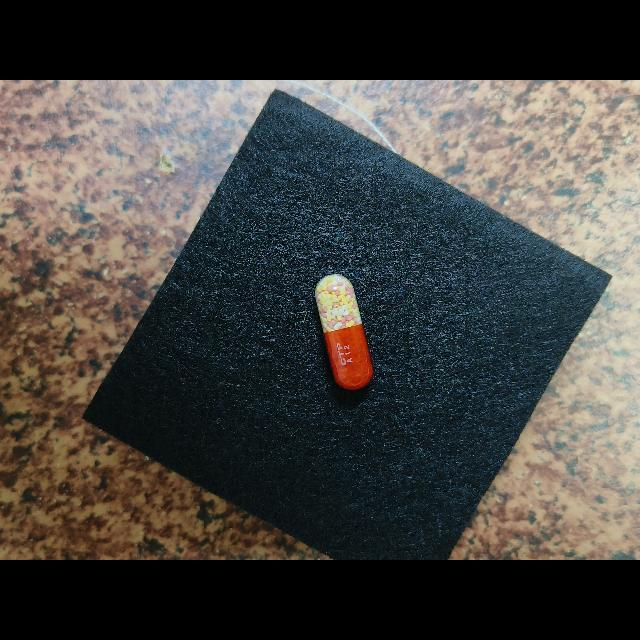Intact Capsule: (315, 275, 373, 390)
